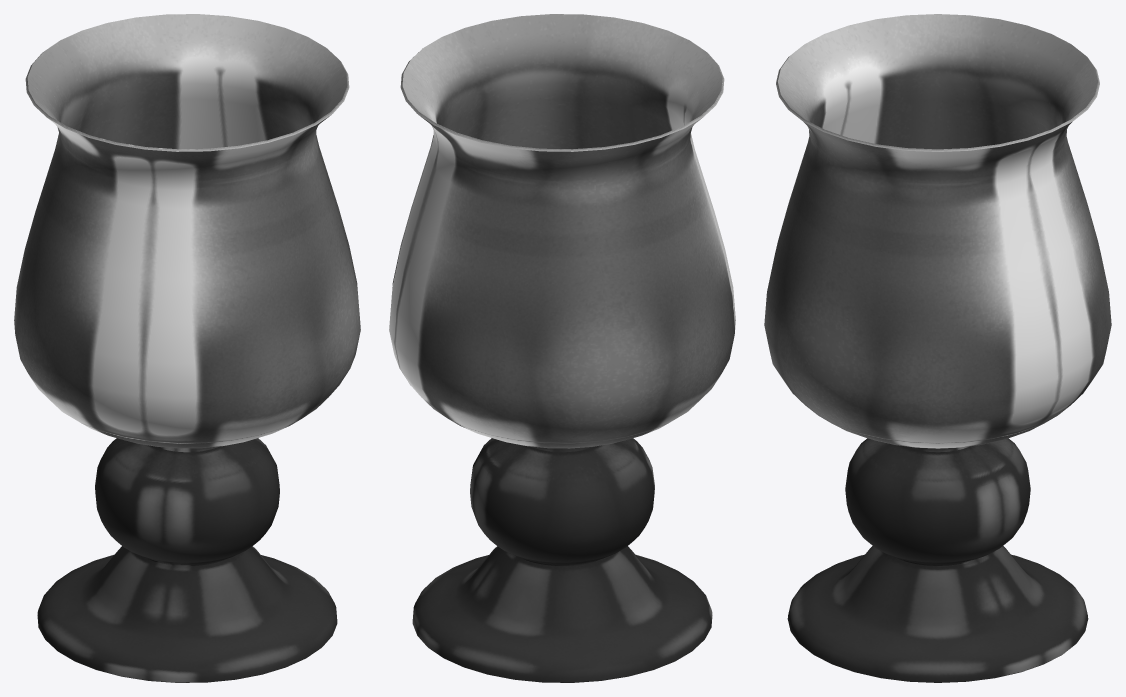
3 views of the same model, side by side, from view 1: azimuth 30°, elevation 25°; view 2: azimuth 150°, elevation 25°; view 3: azimuth 270°, elevation 25° (orthographic).
Parts seen in each view (by area): view 1: glass_001, solid_001; view 2: glass_001, solid_001; view 3: glass_001, solid_001.
Part boxes in pixels (x1,y1,x2,y2): glass_001: (14, 14, 360, 448); solid_001: (37, 438, 337, 682); glass_001: (389, 14, 735, 448); solid_001: (412, 438, 712, 682); glass_001: (764, 14, 1111, 448); solid_001: (787, 438, 1088, 682).
Size of the model in its own units: 0.8808 by 1.51 by 0.8808.
Materials: 1 (1 with a texture image).
